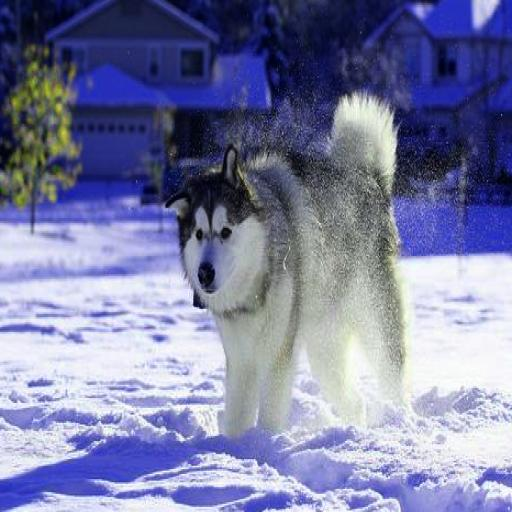dog_face: (164, 149, 257, 300)
